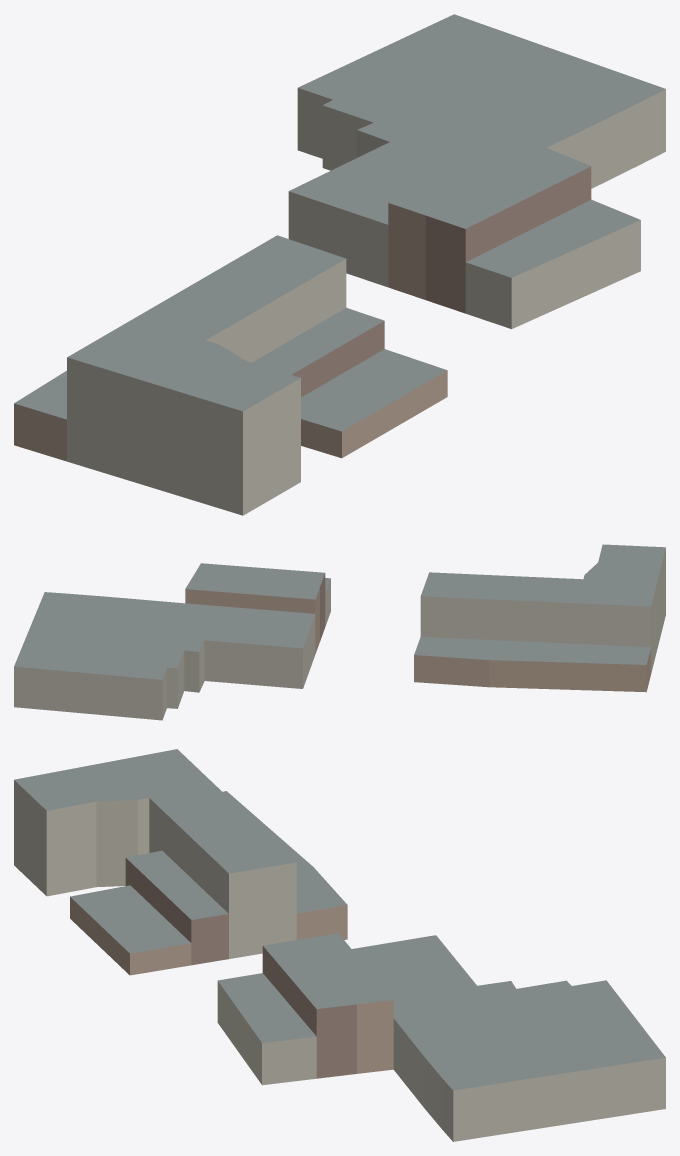
The model's file is context--1--2.gltf.
The picture shows the model from 3 angles, top to bottom: view 1: azimuth 30°, elevation 25°; view 2: azimuth 150°, elevation 25°; view 3: azimuth 270°, elevation 25°; orthographic projection. The views are drawn at different scales.
Parts seen in each view (by area): view 1: context--1--2; view 2: context--1--2; view 3: context--1--2.
Part boxes in pixels (bbox=[...]): context--1--2: bbox=[14, 14, 665, 515]; context--1--2: bbox=[14, 544, 665, 720]; context--1--2: bbox=[14, 749, 665, 1141].
Bounding box in the file's own units: 139 × 17.5 × 121.
